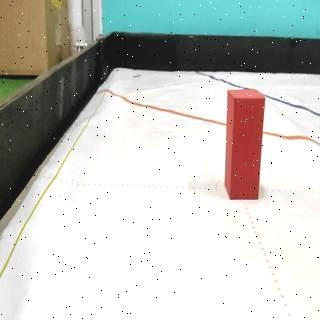redbox: (223, 88, 266, 199)
